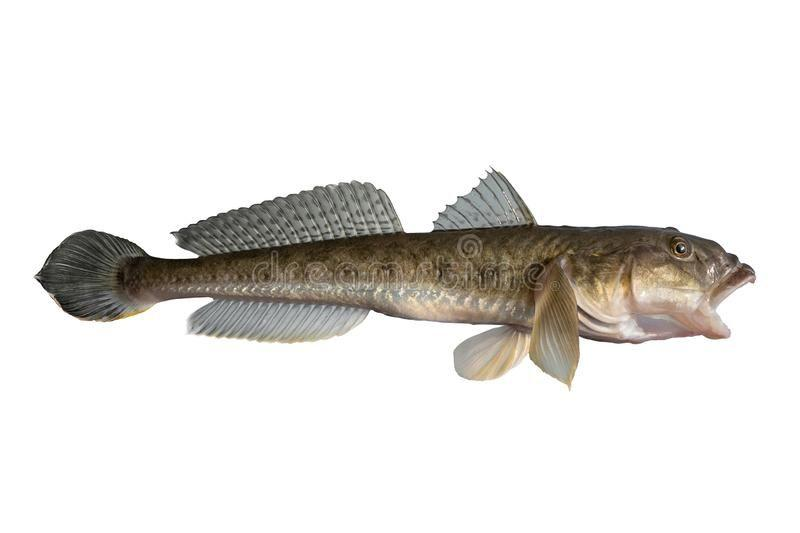Goby: (33, 166, 766, 384)
